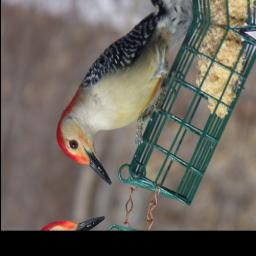Woodpecker: (49, 0, 191, 197)
